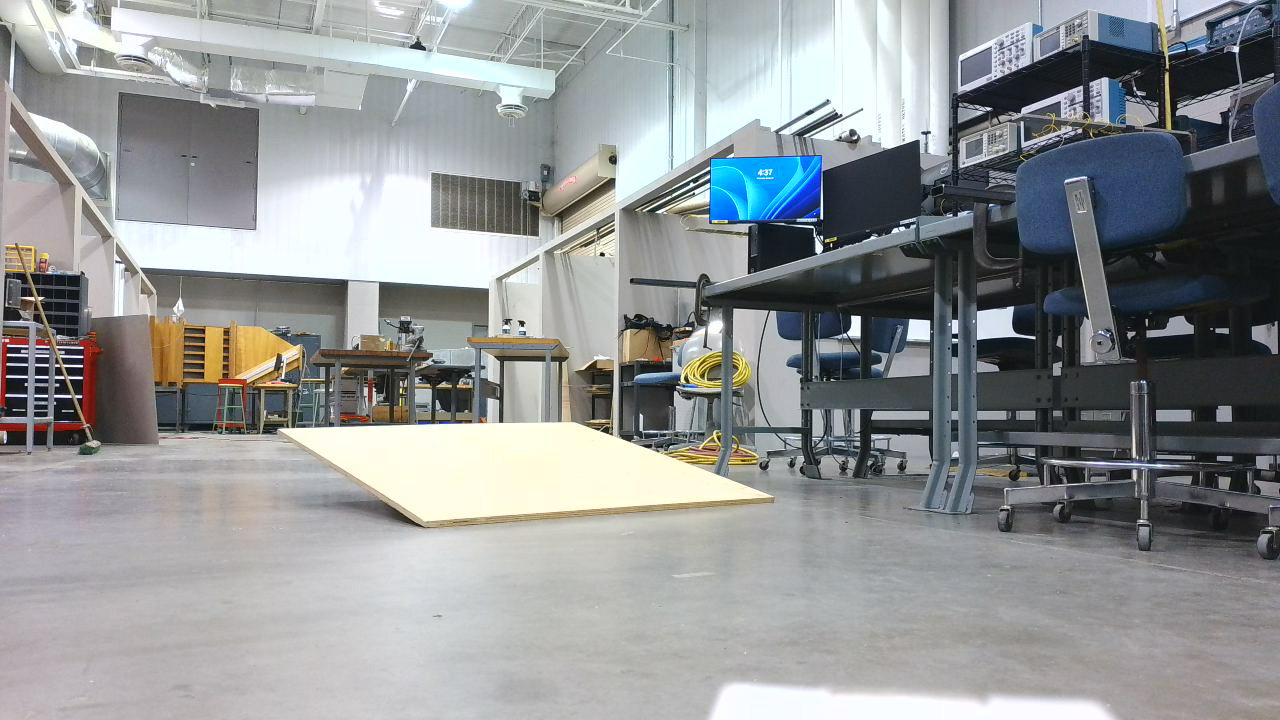ramp: (280, 423, 783, 534)
